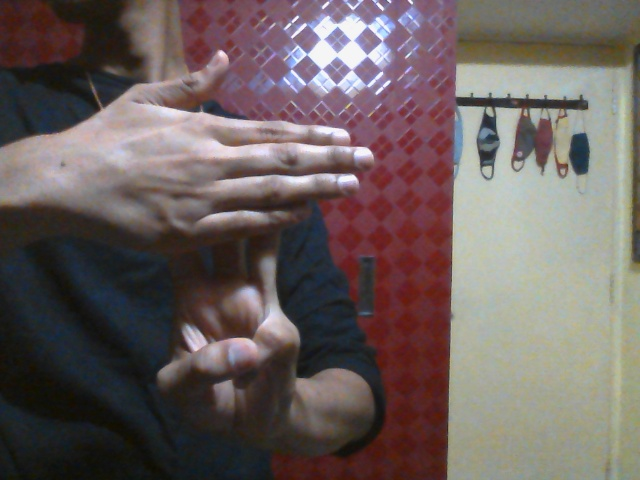M: (70, 48, 376, 432)
